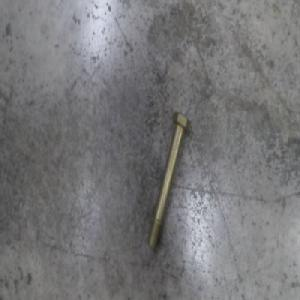Bolt: (147, 110, 189, 251)
